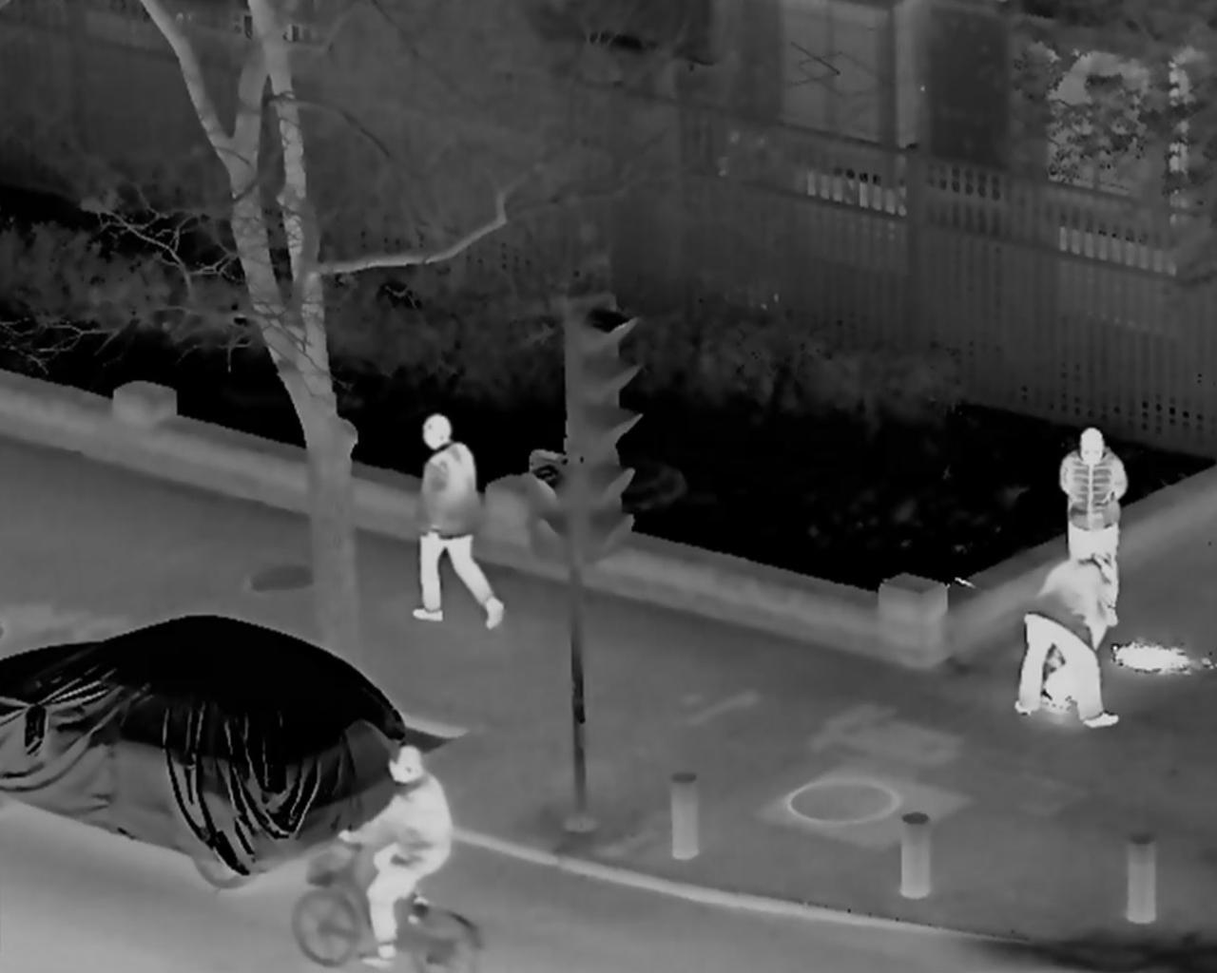person: (340, 746, 456, 965), (408, 410, 502, 629), (1013, 548, 1119, 728), (1059, 428, 1130, 631)
